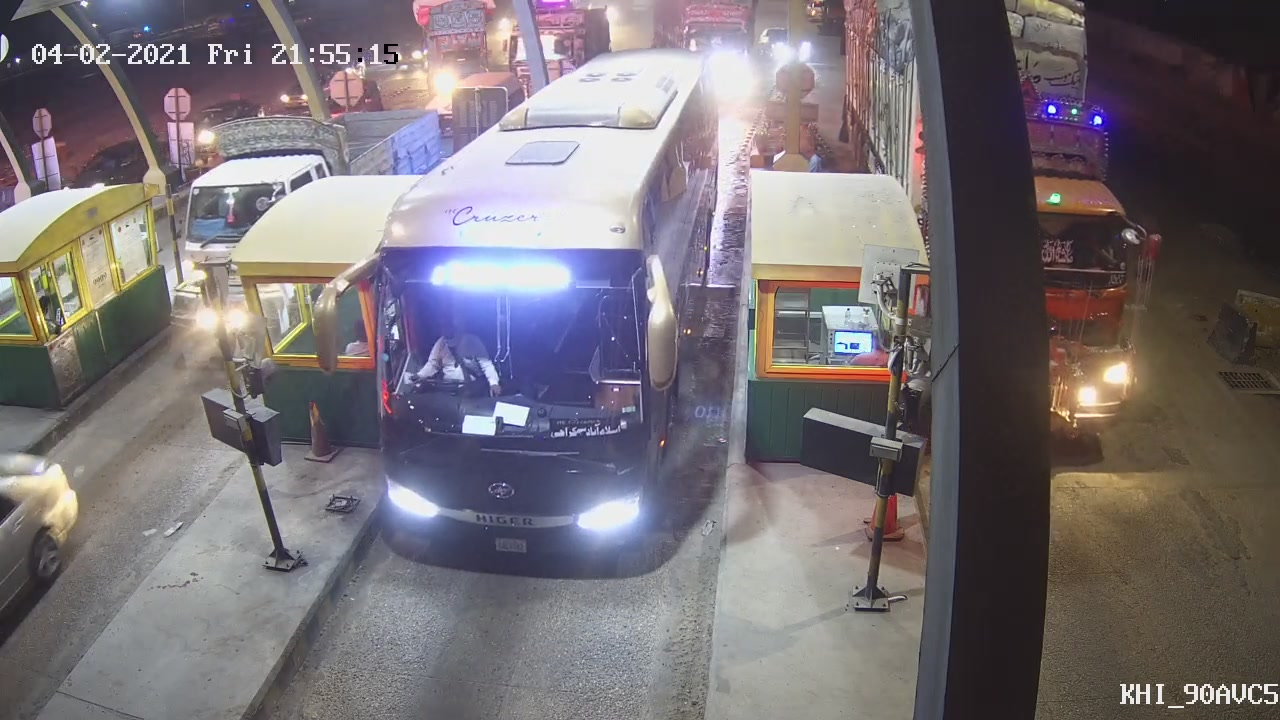F4: (364, 31, 719, 566)
